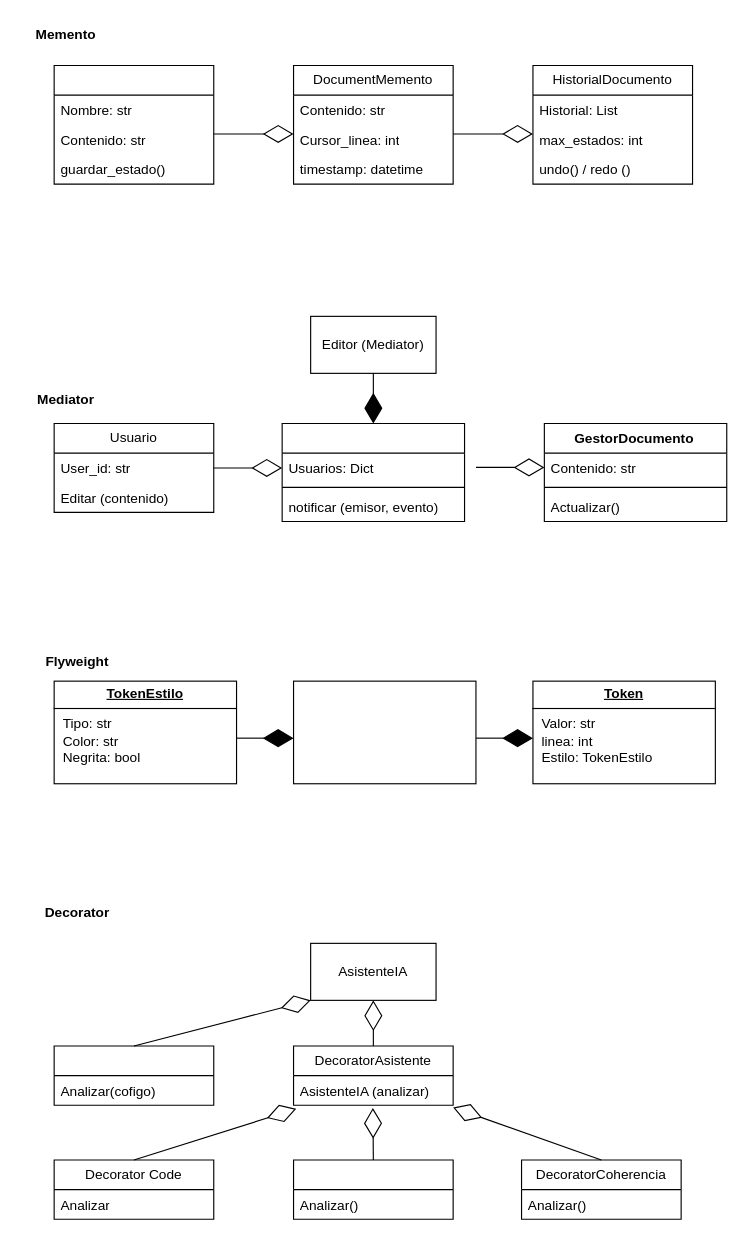
Some shapes in this 747 by 1241 pixel diagram are drawn without their labels. The box of each missing label's shape, as (x1, y1, x2, y2) in pixels:
AsistenteClaude: (53, 1045, 214, 1105)
CodeDocument: (53, 64, 214, 184)
DecoratorGenerarTest: (292, 1159, 453, 1219)
EditorColaboratorivo: (281, 422, 465, 522)
TokenFactory Estilos: Dict (static) Obtener (tipo): TokenEstilo: (292, 680, 476, 784)
